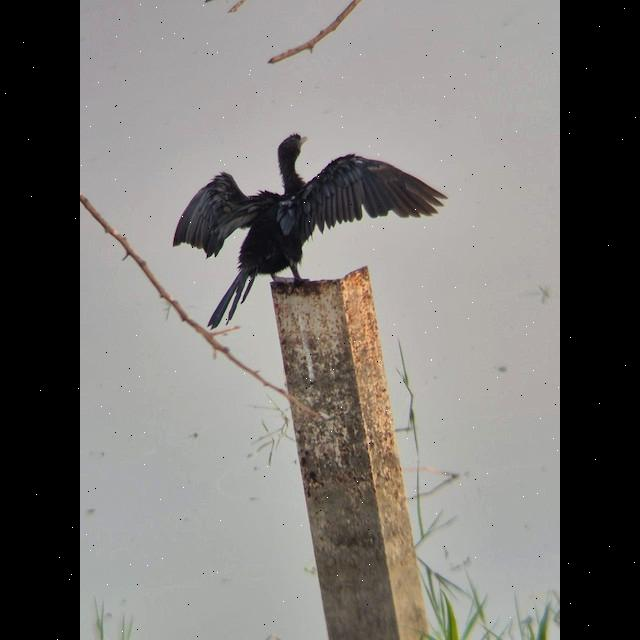cormorant: (157, 129, 456, 339)
